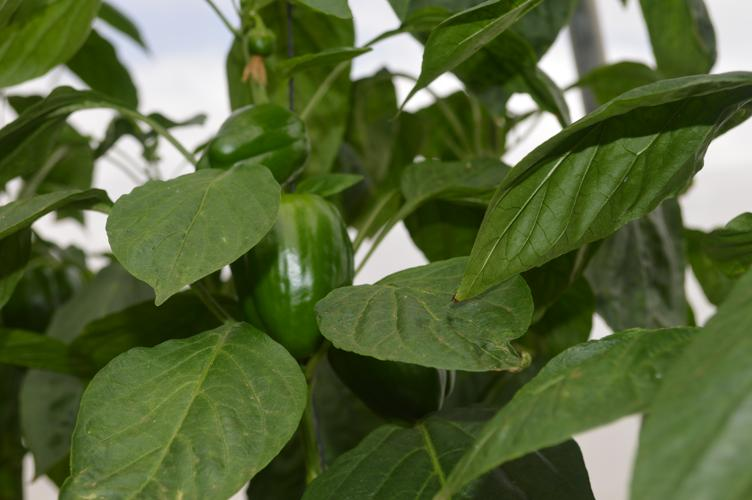BellPepper: (230, 192, 351, 355), (198, 102, 314, 183), (335, 351, 443, 429)
